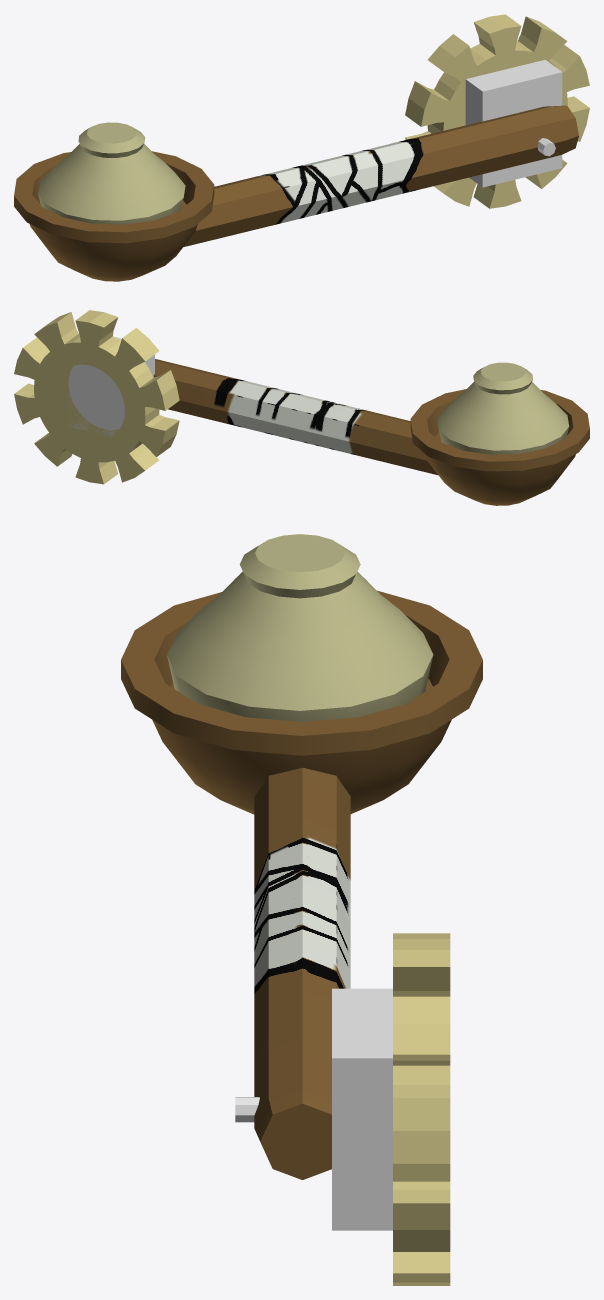
File: turret_2_2.fbx
3 renders of one model, top to bottom at view 1: azimuth 30°, elevation 25°; view 2: azimuth 150°, elevation 25°; view 3: azimuth 270°, elevation 25°, orthographic. The views are drawn at different scales.
Parts seen in each view (by area): view 1: Gear, Bullet2; view 2: Gear, Bullet2; view 3: Gear, Bullet2.
Boxes of the visible parts, left/top/right/bottom form: Gear: left=14, top=14, right=589, bottom=281; Bullet2: left=38, top=122, right=185, bottom=224; Gear: left=14, top=310, right=589, bottom=505; Bullet2: left=437, top=362, right=569, bottom=454; Gear: left=121, top=590, right=482, bottom=1285; Bullet2: left=167, top=534, right=433, bottom=721.
Size of the model in its own units: 90.99 by 27.03 by 28.78.
